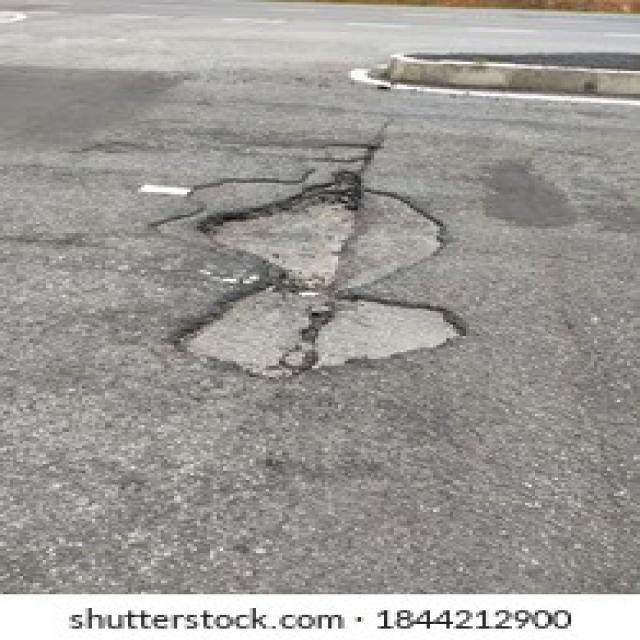Pothole: (158, 279, 470, 382), (193, 169, 450, 279)
